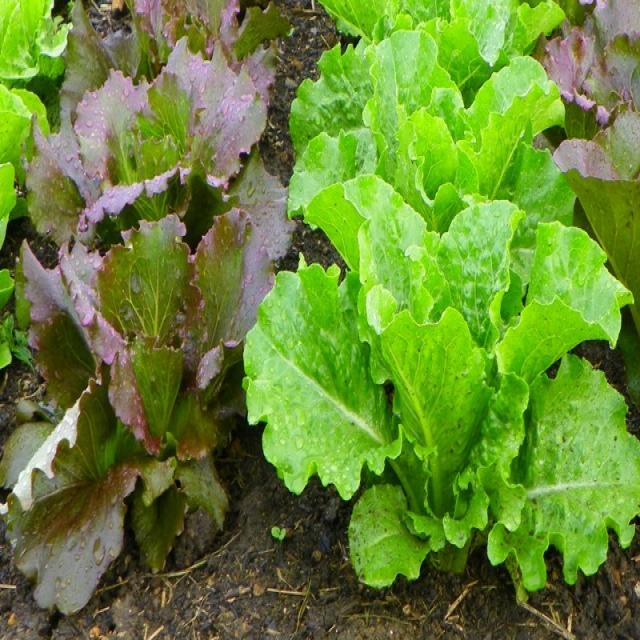lettuce: (247, 191, 626, 567), (282, 0, 550, 200)
